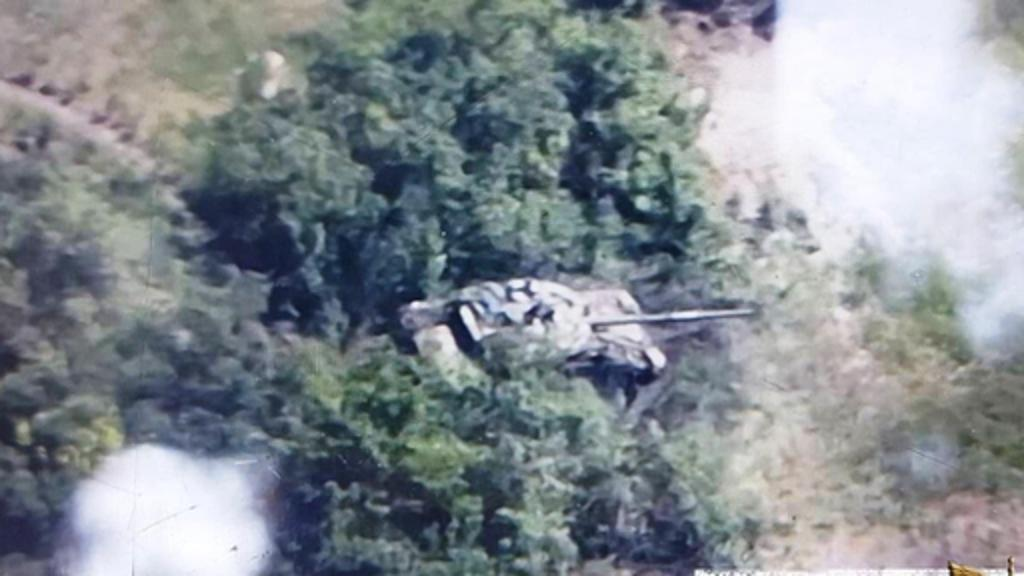TANK: (398, 274, 764, 410)
